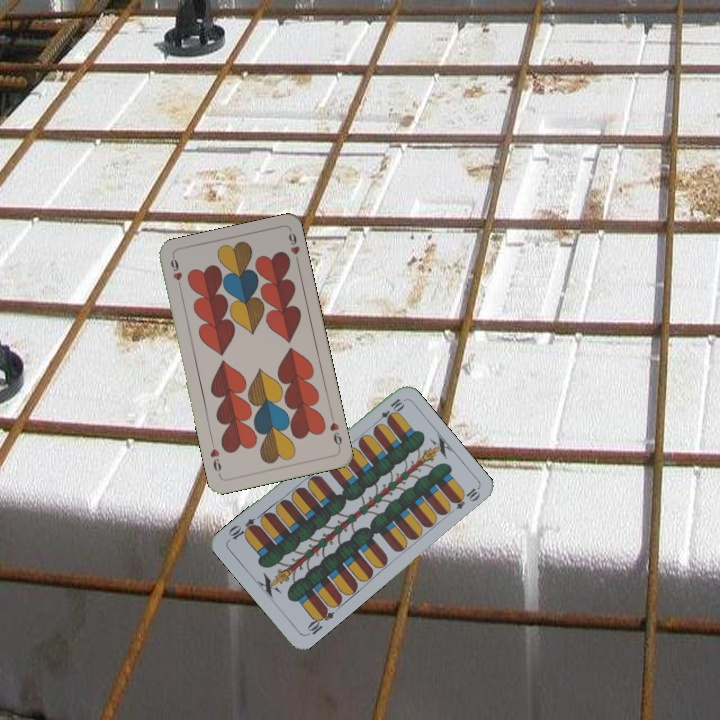E10: (302, 603, 337, 638), (371, 394, 406, 427)
H9: (166, 254, 185, 294), (326, 411, 344, 452)
